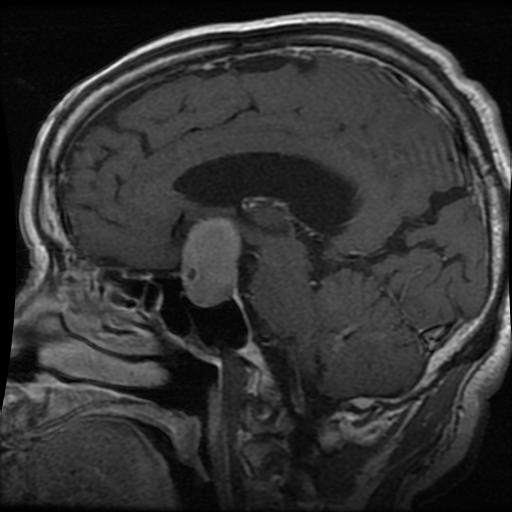Pituirity_tumour: (182, 215, 239, 305)
